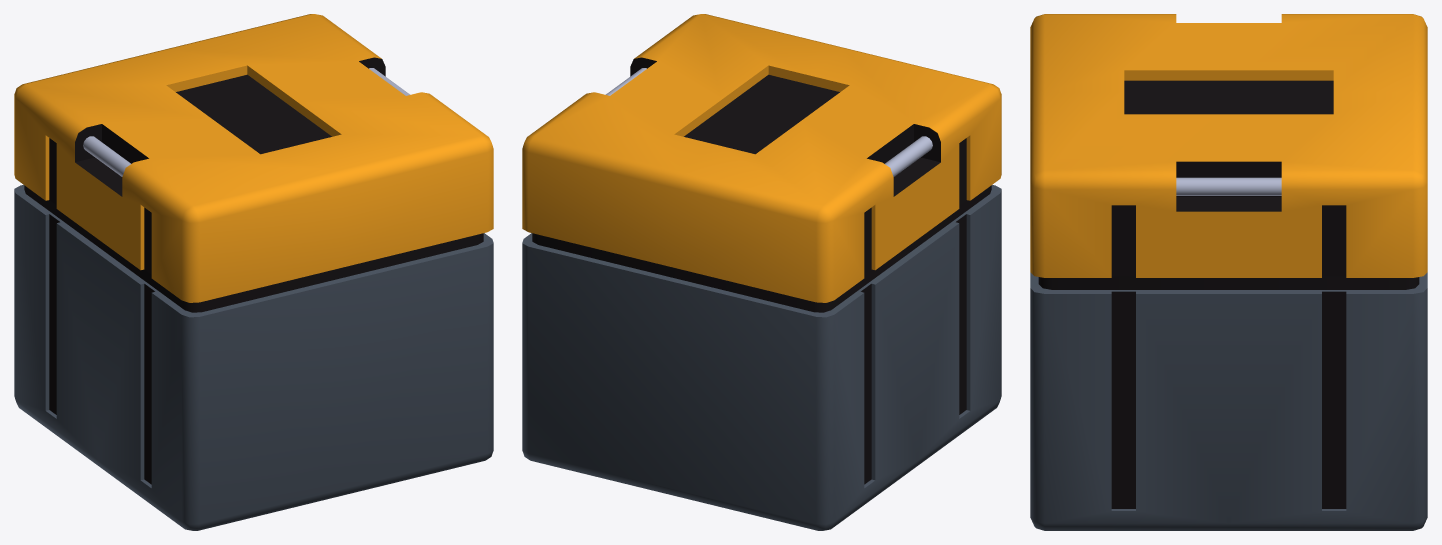
The model's file is MM_Crate_1.fbx.
3 renders of one model, left to right at view 1: azimuth 30°, elevation 25°; view 2: azimuth 150°, elevation 25°; view 3: azimuth 270°, elevation 25°, orthographic. The views are drawn at different scales.
Parts seen in each view (by area): view 1: Cube.032; view 2: Cube.032; view 3: Cube.032.
Boxes of the visible parts, bbox=[...] form: Cube.032: bbox=[14, 14, 493, 530]; Cube.032: bbox=[522, 14, 1001, 530]; Cube.032: bbox=[1030, 14, 1427, 530].
Size of the model in its own units: 72.93 by 72.93 by 72.93.
